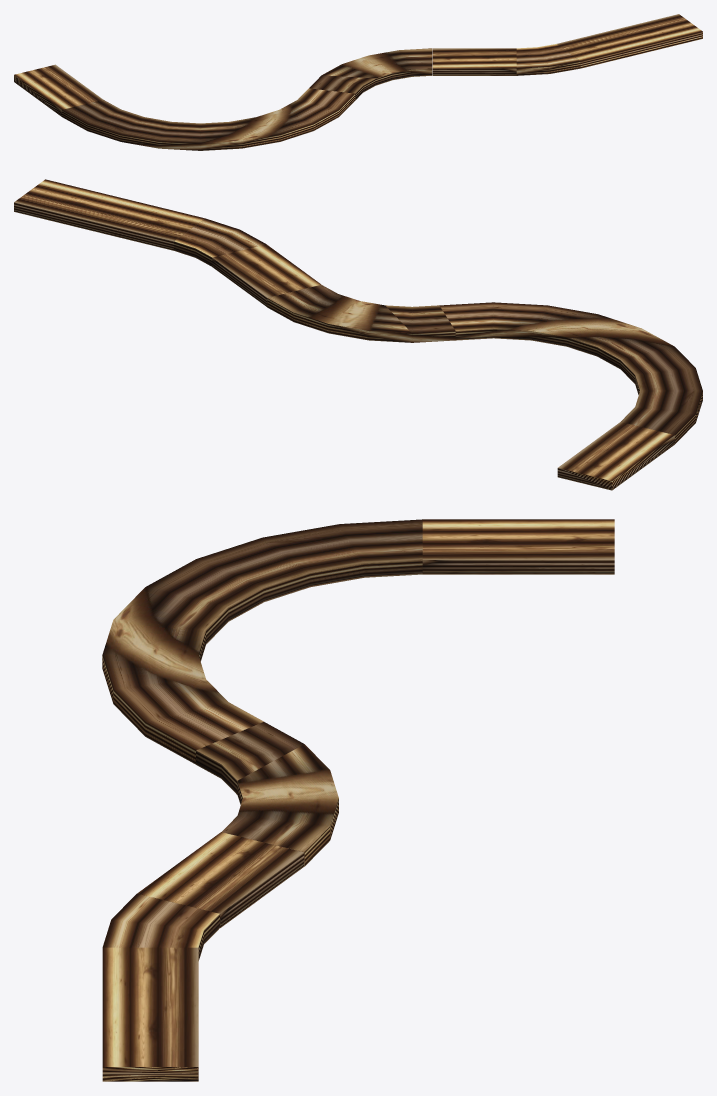
The model's file is S - No walls 1.obj.
3 views of the same model, one above another, from view 1: azimuth 30°, elevation 25°; view 2: azimuth 150°, elevation 25°; view 3: azimuth 270°, elevation 25° (orthographic). The views are drawn at different scales.
Visible parts, largest first — view 1: polySurface15; view 2: polySurface15; view 3: polySurface15.
Part boxes in pixels (bbox=[...]): polySurface15: bbox=[14, 14, 702, 150]; polySurface15: bbox=[14, 179, 702, 490]; polySurface15: bbox=[102, 519, 614, 1081].
Size of the model in its own units: 5668 by 70 by 2240.
